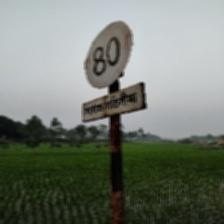Speed-limit: (81, 18, 144, 123)
